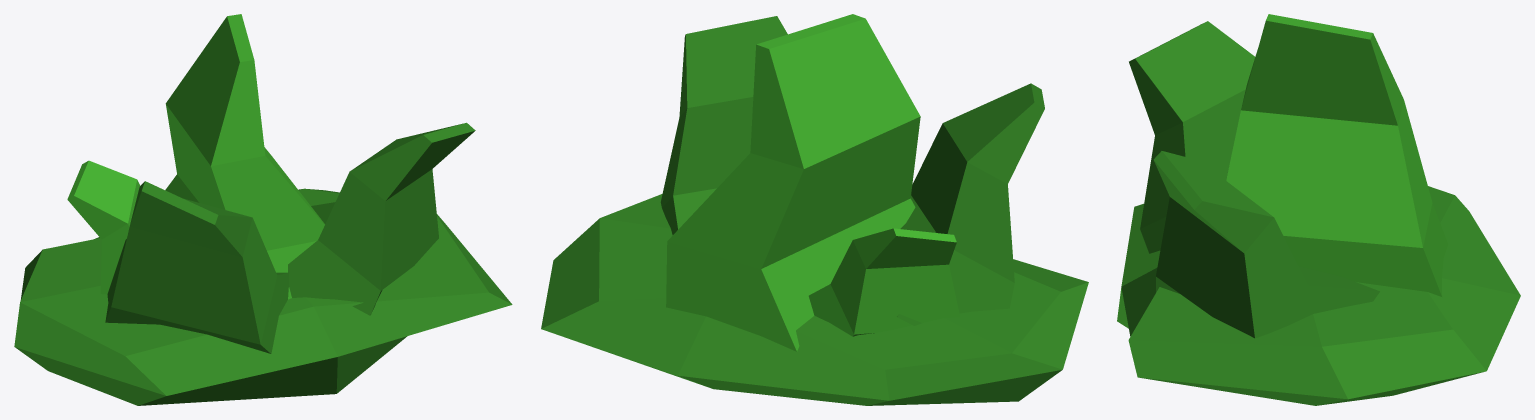
File: shrubbery3.fbx
3 renders of one model, left to right at view 1: azimuth 30°, elevation 25°; view 2: azimuth 150°, elevation 25°; view 3: azimuth 270°, elevation 25°, orthographic. The views are drawn at different scales.
Visible parts, largest first — view 1: Shrubbery 3; view 2: Shrubbery 3; view 3: Shrubbery 3.
Part boxes in pixels (bbox=[...]): Shrubbery 3: bbox=[14, 14, 512, 405]; Shrubbery 3: bbox=[541, 14, 1088, 405]; Shrubbery 3: bbox=[1117, 14, 1520, 405].
Size of the model in its own units: 172 by 106 by 130.
